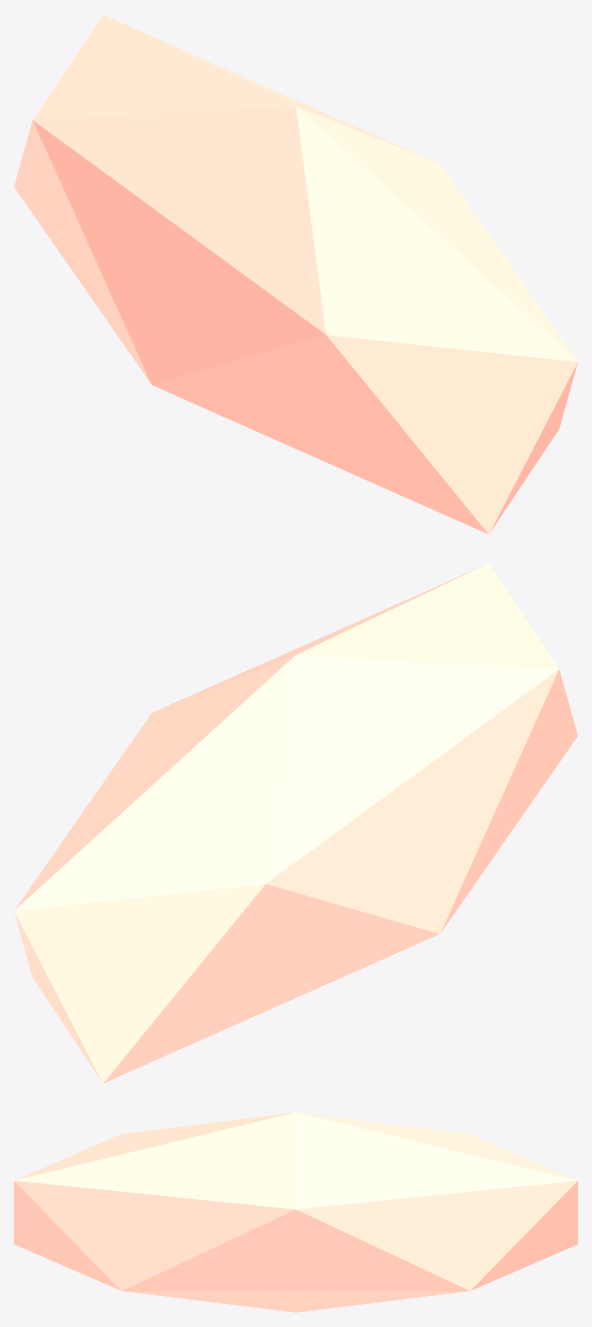
File: enemy_projectile.glb
3 views of the same model, one above another, from view 1: azimuth 30°, elevation 25°; view 2: azimuth 150°, elevation 25°; view 3: azimuth 270°, elevation 25° (orthographic). The views are drawn at different scales.
Parts seen in each view (by area): view 1: enemy_projectile_mesh; view 2: enemy_projectile_mesh; view 3: enemy_projectile_mesh.
Boxes of the visible parts, box(x1,y1,x2,y2) form: enemy_projectile_mesh: box(14, 14, 577, 534); enemy_projectile_mesh: box(14, 563, 577, 1083); enemy_projectile_mesh: box(14, 1112, 577, 1312).
Bounding box in the file's own units: 0.1252 × 0.14 × 0.3573.
